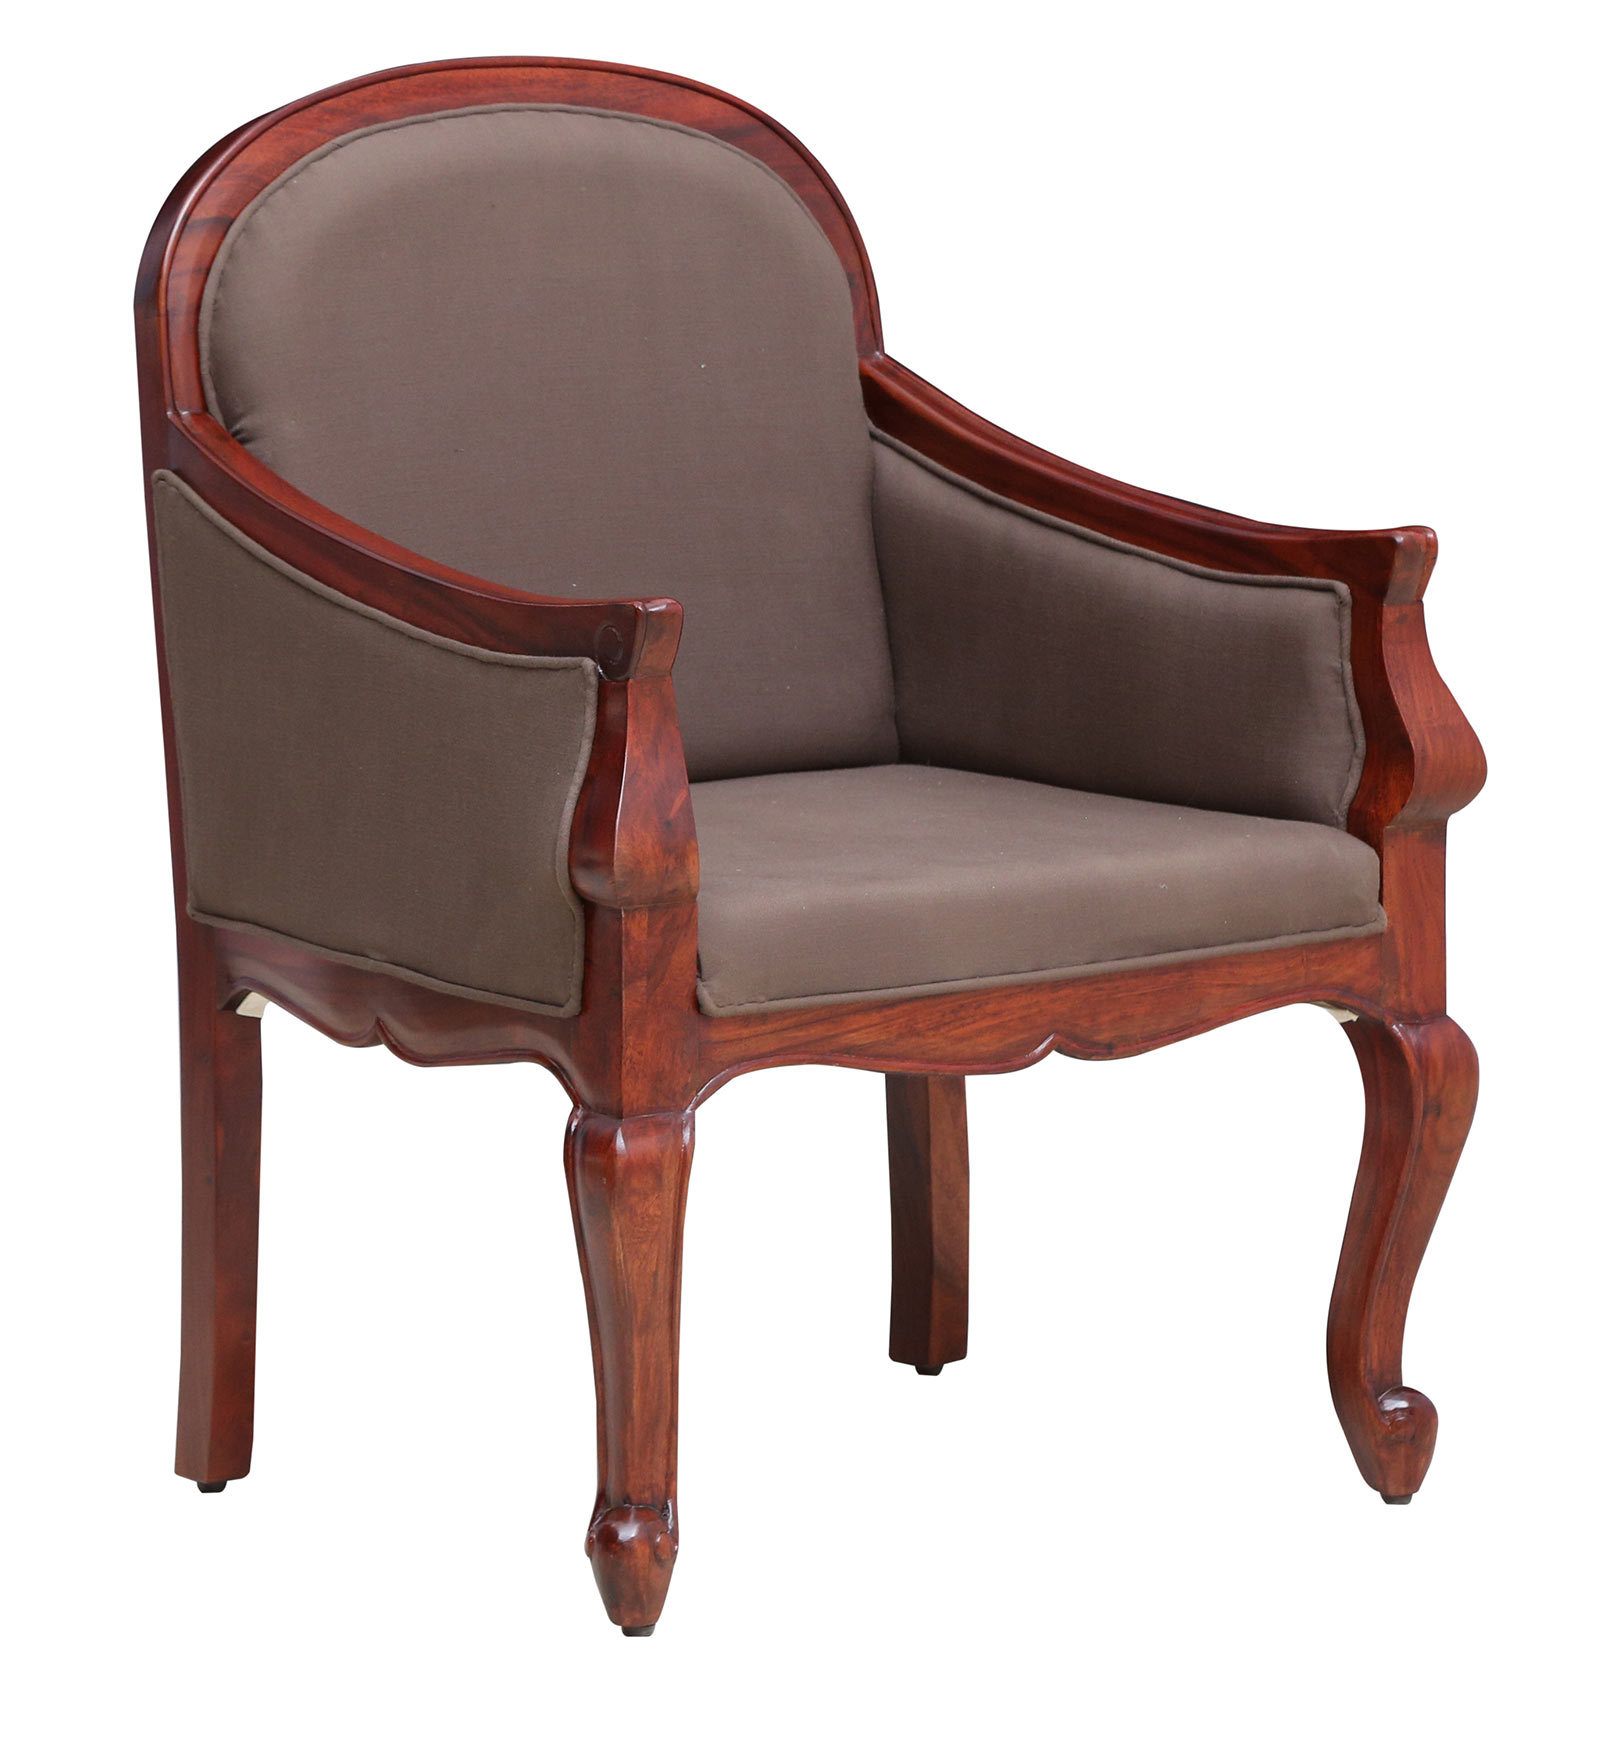Clifford Arm Chair in Honey Oak Finish by Amberville: (116, 81, 1514, 1677)
